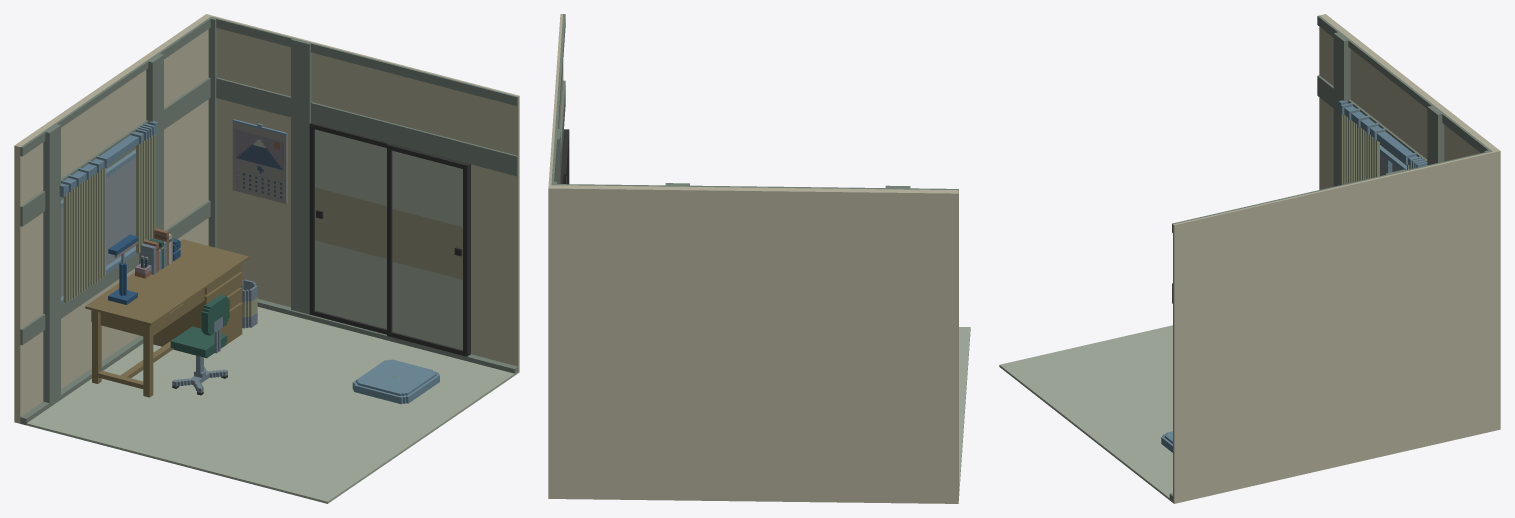
Rendered from room_fudji.glb.
3 renders of one model, left to right at view 1: azimuth 30°, elevation 25°; view 2: azimuth 150°, elevation 25°; view 3: azimuth 270°, elevation 25°, orthographic. The views are drawn at different scales.
Visible parts, largest first — view 1: palette__geom.005; view 2: palette__geom.005; view 3: palette__geom.005.
Part boxes in pixels (x1,y1,x2,y2): palette__geom.005: [14, 14, 519, 503]; palette__geom.005: [548, 14, 970, 503]; palette__geom.005: [999, 14, 1500, 503].
Bounding box in the file's own units: 118 × 72.44 × 118.
1 material, 1 textured.
